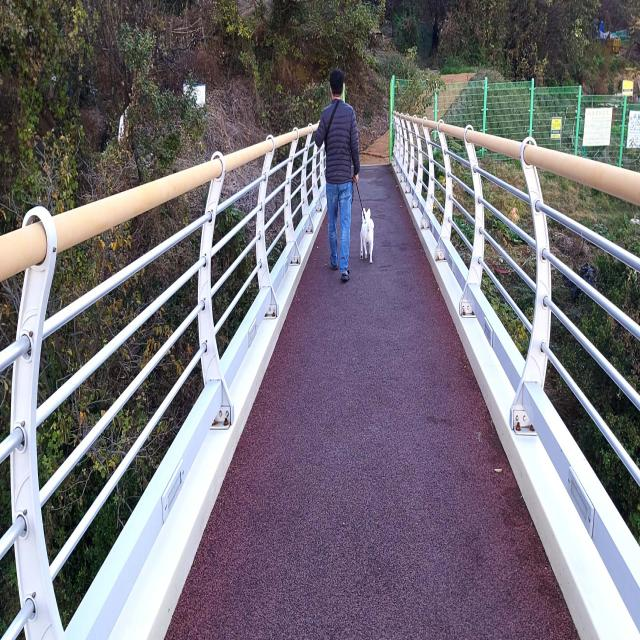Leashed_Dog: (339, 172, 374, 265)
